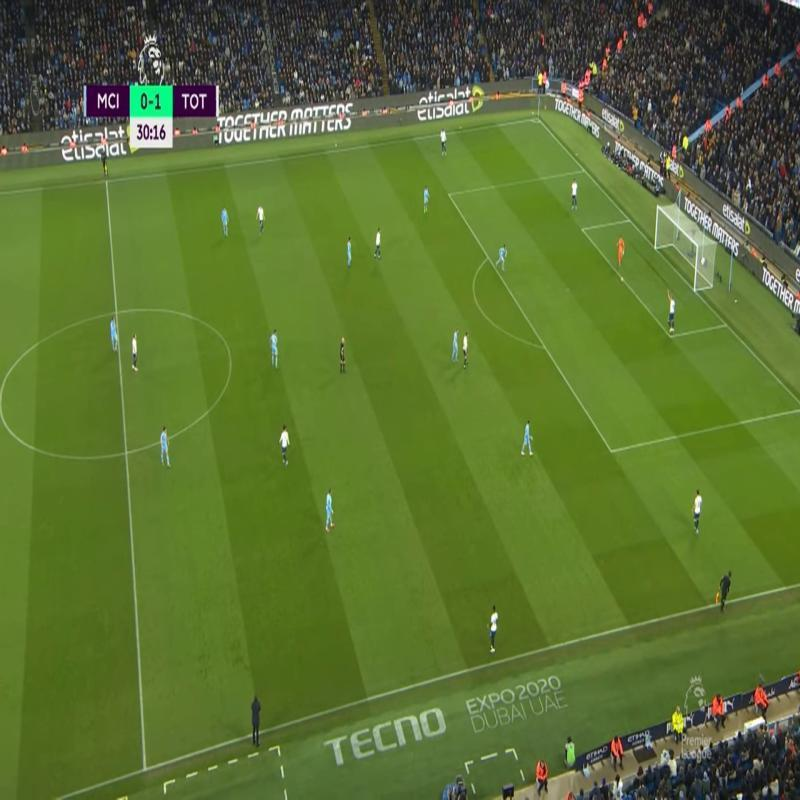1: (530, 112, 546, 126)
10: (480, 251, 494, 266)
11: (538, 340, 554, 356)
12: (604, 442, 620, 458)
13: (97, 172, 112, 187)
14: (108, 304, 125, 320)
15: (116, 442, 134, 460)
16: (136, 759, 153, 779)
2: (578, 164, 593, 178)
3: (624, 214, 640, 231)
4: (720, 316, 736, 334)
7: (574, 222, 588, 234)
8: (663, 326, 678, 342)
9: (442, 187, 455, 201)
c: (222, 348, 238, 364)
